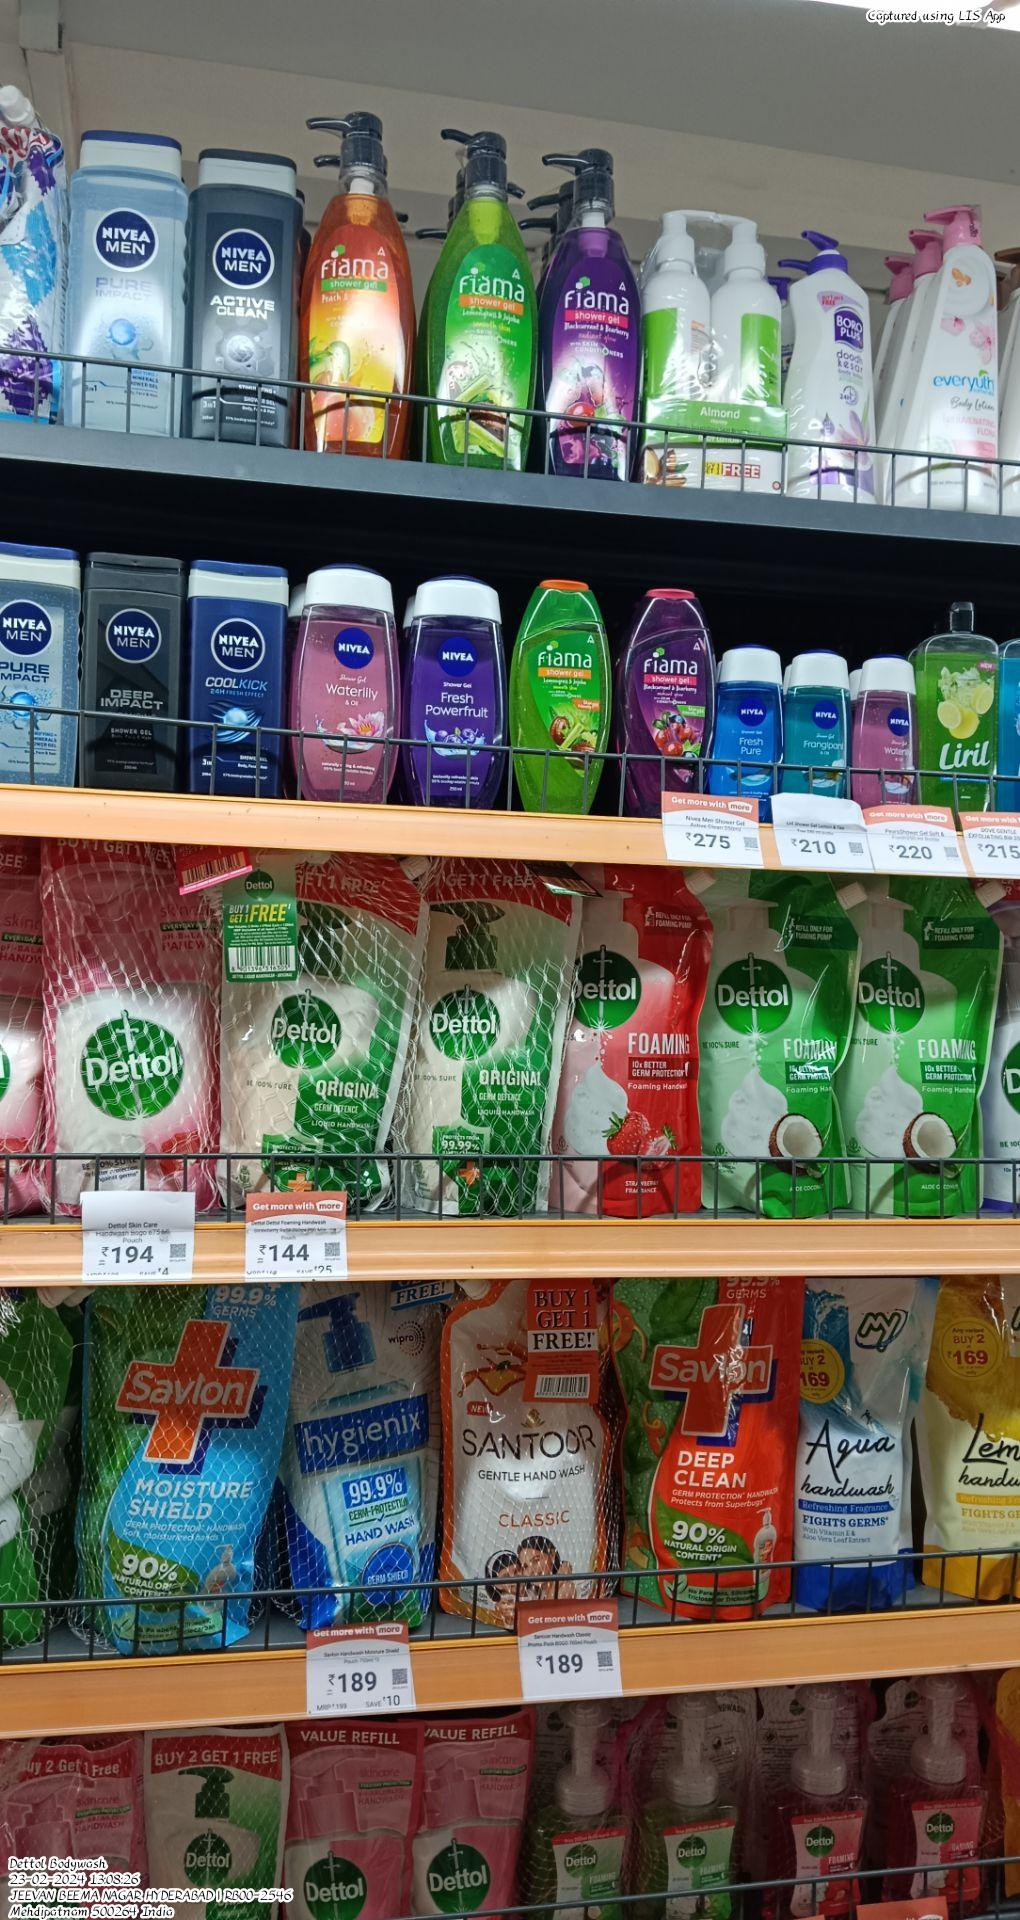Fiama_Shower_Gel_Lemongrass_and_Jojoba_250ML: (516, 571, 607, 811)
Nivea_Shower_Gel_Fresh_Powerfruit_250ML: (408, 569, 504, 808)
Nivea_Shower_Gel_Waterlily_and_Oil_250ML: (292, 561, 399, 803)
